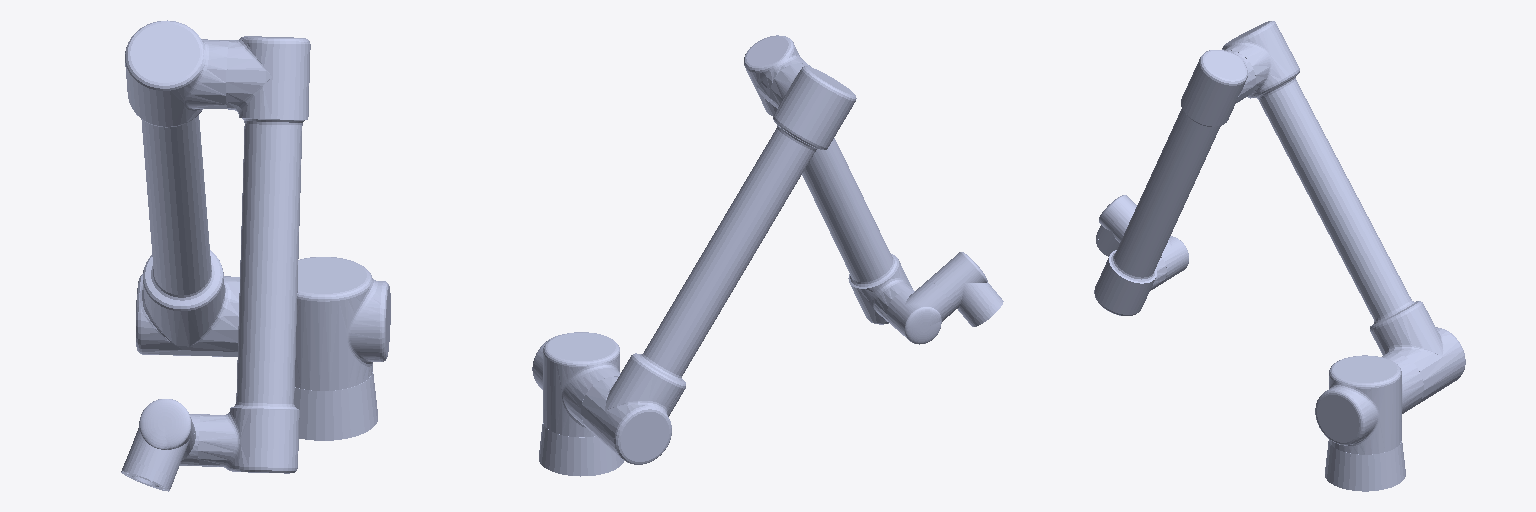
The robot description file, URDF, robot "robot":
<?xml version="1.0" encoding="utf-8"?>
<!-- This URDF was automatically created by SolidWorks to URDF Exporter! Originally created by [author] ([email redacted]) 
     Commit Version: 1.6.0-4-g7f85cfe  Build Version: 1.6.7995.38578
     For more information, please see http://wiki.ros.org/sw_urdf_exporter -->
<robot
  name="robot">
  <link
    name="Base">
    <inertial>
      <origin
        xyz="-0.00720869445927974 0.0598778067112673 -0.00909555708398103"
        rpy="0 0 0" />
      <mass
        value="2.17337480787328" />
      <inertia
        ixx="0.00588682864618151"
        ixy="-2.52029313306524E-35"
        ixz="-3.25439812748976E-35"
        iyy="0.00915848812879676"
        iyz="6.58977212252909E-20"
        izz="0.00588682864618151" />
    </inertial>
    <visual>
      <origin
        xyz="0 0 0"
        rpy="0 0 0" />
      <geometry>
        <mesh
          filename="package://robot/meshes/Base.STL" />
      </geometry>
      <material
        name="">
        <color
          rgba="0.792156862745098 0.819607843137255 0.933333333333333 1" />
      </material>
    </visual>
    <collision>
      <origin
        xyz="0 0 0"
        rpy="0 0 0" />
      <geometry>
        <mesh
          filename="package://robot/meshes/Base.STL" />
      </geometry>
    </collision>
  </link>
  <link
    name="Base_Link">
    <inertial>
      <origin
        xyz="-4.37610926571318E-07 0.0991451963514957 0.00793213930094456"
        rpy="0 0 0" />
      <mass
        value="5.63643739815513" />
      <inertia
        ixx="0.0359740700692069"
        ixy="1.41414673215612E-08"
        ixz="-1.35740235780724E-07"
        iyy="0.0316669062287972"
        iyz="-0.000313578444407717"
        izz="0.0234867978942921" />
    </inertial>
    <visual>
      <origin
        xyz="0 0 0"
        rpy="0 0 0" />
      <geometry>
        <mesh
          filename="package://robot/meshes/Base_Link.STL" />
      </geometry>
      <material
        name="">
        <color
          rgba="0.792156862745098 0.819607843137255 0.933333333333333 1" />
      </material>
    </visual>
    <collision>
      <origin
        xyz="0 0 0"
        rpy="0 0 0" />
      <geometry>
        <mesh
          filename="package://robot/meshes/Base_Link.STL" />
      </geometry>
    </collision>
  </link>
  <joint
    name="Base_Joint"
    type="revolute">
    <origin
      xyz="-0.0072087 0.0090956 0.098987"
      rpy="1.5708 0 -2.1682" />
    <parent
      link="Base" />
    <child
      link="Base_Link" />
    <axis
      xyz="0 1 0" />
    <limit
      lower="0"
      upper="0"
      effort="0"
      velocity="0" />
  </joint>
  <link
    name="Shoulder_Link">
    <inertial>
      <origin
        xyz="-2.42485247187174E-07 0.377510205205091 0.403179608390412"
        rpy="0 0 0" />
      <mass
        value="11.390964915207" />
      <inertia
        ixx="1.1739329091764"
        ixy="-8.60865179986778E-07"
        ixz="3.80916543585297E-07"
        iyy="0.0293567974622381"
        iyz="0.00557038935850324"
        izz="1.16702161436273" />
    </inertial>
    <visual>
      <origin
        xyz="0 0 0"
        rpy="0 0 0" />
      <geometry>
        <mesh
          filename="package://robot/meshes/Shoulder_Link.STL" />
      </geometry>
      <material
        name="">
        <color
          rgba="0.792156862745098 0.819607843137255 0.933333333333333 1" />
      </material>
    </visual>
    <collision>
      <origin
        xyz="0 0 0"
        rpy="0 0 0" />
      <geometry>
        <mesh
          filename="package://robot/meshes/Shoulder_Link.STL" />
      </geometry>
    </collision>
  </link>
  <joint
    name="Shoulder_Joint"
    type="revolute">
    <origin
      xyz="0 0.10616 -0.17191"
      rpy="0 0 -0.59604" />
    <parent
      link="Base_Link" />
    <child
      link="Shoulder_Link" />
    <axis
      xyz="0 0 1" />
    <limit
      lower="0"
      upper="0"
      effort="0"
      velocity="0" />
  </joint>
  <link
    name="Elbow_Link">
    <inertial>
      <origin
        xyz="-2.21918825205059E-07 0.25931644338234 0.302613154963713"
        rpy="0 0 0" />
      <mass
        value="7.4582948984426" />
      <inertia
        ixx="0.43871302799289"
        ixy="1.3682374694346E-07"
        ixz="9.96620512921931E-08"
        iyy="0.435767614490805"
        iyz="-0.000803244687696764"
        izz="0.0141463853829773" />
    </inertial>
    <visual>
      <origin
        xyz="0 0 0"
        rpy="0 0 0" />
      <geometry>
        <mesh
          filename="package://robot/meshes/Elbow_Link.STL" />
      </geometry>
      <material
        name="">
        <color
          rgba="0.792156862745098 0.819607843137255 0.933333333333333 1" />
      </material>
    </visual>
    <collision>
      <origin
        xyz="0 0 0"
        rpy="0 0 0" />
      <geometry>
        <mesh
          filename="package://robot/meshes/Elbow_Link.STL" />
      </geometry>
    </collision>
  </link>
  <joint
    name="Elbow_Joint"
    type="revolute">
    <origin
      xyz="0 0.81358 -0.030525"
      rpy="1.5708 0 1.0135" />
    <parent
      link="Shoulder_Link" />
    <child
      link="Elbow_Link" />
    <axis
      xyz="0 1 0" />
    <limit
      lower="0"
      upper="0"
      effort="0"
      velocity="0" />
  </joint>
  <link
    name="Wrist1_Link">
    <inertial>
      <origin
        xyz="-1.67102628123583E-08 0.129546133678737 0.0151390955773307"
        rpy="0 0 0" />
      <mass
        value="0.887360774259334" />
      <inertia
        ixx="0.00160602282113508"
        ixy="-7.55980201128017E-10"
        ixz="-2.17218405136371E-09"
        iyy="0.00137933118615523"
        iyz="-3.55198168682165E-05"
        izz="0.00116601449286818" />
    </inertial>
    <visual>
      <origin
        xyz="0 0 0"
        rpy="0 0 0" />
      <geometry>
        <mesh
          filename="package://robot/meshes/Wrist1_Link.STL" />
      </geometry>
      <material
        name="">
        <color
          rgba="0.792156862745098 0.819607843137255 0.933333333333333 1" />
      </material>
    </visual>
    <collision>
      <origin
        xyz="0 0 0"
        rpy="0 0 0" />
      <geometry>
        <mesh
          filename="package://robot/meshes/Wrist1_Link.STL" />
      </geometry>
    </collision>
  </link>
  <joint
    name="Wrist1_Joint"
    type="revolute">
    <origin
      xyz="0 0.28035 0.63091"
      rpy="-3.1416 1.3996 -3.1416" />
    <parent
      link="Elbow_Link" />
    <child
      link="Wrist1_Link" />
    <axis
      xyz="0 1 0" />
    <limit
      lower="0"
      upper="0"
      effort="0"
      velocity="0" />
  </joint>
  <link
    name="Wrist2_Link">
    <inertial>
      <origin
        xyz="1.51118002167383E-07 0.0686295948588763 0.015139121968226"
        rpy="0 0 0" />
      <mass
        value="0.887359407969487" />
      <inertia
        ixx="0.00160602213016229"
        ixy="-3.8101292455274E-10"
        ixz="-9.8162630485872E-10"
        iyy="0.00137933108441882"
        iyz="-3.55209003249813E-05"
        izz="0.00116601371834944" />
    </inertial>
    <visual>
      <origin
        xyz="0 0 0"
        rpy="0 0 0" />
      <geometry>
        <mesh
          filename="package://robot/meshes/Wrist2_Link.STL" />
      </geometry>
      <material
        name="">
        <color
          rgba="0.792156862745098 0.819607843137255 0.933333333333333 1" />
      </material>
    </visual>
    <collision>
      <origin
        xyz="0 0 0"
        rpy="0 0 0" />
      <geometry>
        <mesh
          filename="package://robot/meshes/Wrist2_Link.STL" />
      </geometry>
    </collision>
  </link>
  <joint
    name="Wrist2_Joint"
    type="revolute">
    <origin
      xyz="0 0.13209 0.058822"
      rpy="1.5708 0 -1.9069" />
    <parent
      link="Wrist1_Link" />
    <child
      link="Wrist2_Link" />
    <axis
      xyz="0 1 0" />
    <limit
      lower="0"
      upper="0"
      effort="0"
      velocity="0" />
  </joint>
  <link
    name="Flansch_Link">
    <inertial>
      <origin
        xyz="-5.28827474388649E-06 -2.26024118803458E-05 0.0526235093812261"
        rpy="0 0 0" />
      <mass
        value="0.132152328926578" />
      <inertia
        ixx="7.32172316049265E-05"
        ixy="2.5925556541559E-08"
        ixz="4.73918211936661E-09"
        iyy="7.31099485490114E-05"
        iyz="2.02555562092749E-08"
        izz="0.000130599256993017" />
    </inertial>
    <visual>
      <origin
        xyz="0 0 0"
        rpy="0 0 0" />
      <geometry>
        <mesh
          filename="package://robot/meshes/Flansch_Link.STL" />
      </geometry>
      <material
        name="">
        <color
          rgba="0.792156862745098 0.819607843137255 0.933333333333333 1" />
      </material>
    </visual>
    <collision>
      <origin
        xyz="0 0 0"
        rpy="0 0 0" />
      <geometry>
        <mesh
          filename="package://robot/meshes/Flansch_Link.STL" />
      </geometry>
    </collision>
  </link>
  <joint
    name="Flansch_Joint"
    type="revolute">
    <origin
      xyz="0 0.071178 0.033347"
      rpy="0 0 0.37885" />
    <parent
      link="Wrist2_Link" />
    <child
      link="Flansch_Link" />
    <axis
      xyz="0 0 1" />
    <limit
      lower="0"
      upper="0"
      effort="0"
      velocity="0" />
  </joint>
</robot>

--- Render facts (derived) ---
3 views of the same robot in one strip: view 1: azimuth 30°, elevation 25°; view 2: azimuth 150°, elevation 25°; view 3: azimuth 270°, elevation 25° (orthographic).
Robot: robot — 7 links, 6 joints (6 revolute); root link Base; default pose: all joints at 0.
Links seen in each view (by area): view 1: Elbow_Link, Shoulder_Link, Base_Link, Base, Wrist2_Link, Flansch_Link; view 2: Shoulder_Link, Elbow_Link, Base_Link, Base, Wrist1_Link, Wrist2_Link; view 3: Shoulder_Link, Elbow_Link, Base_Link, Base, Wrist2_Link, Wrist1_Link.
Link boxes in pixels (left/top/right/bottom): Elbow_Link: left=198, top=36, right=310, bottom=473; Shoulder_Link: left=125, top=20, right=239, bottom=356; Base_Link: left=295, top=257, right=390, bottom=390; Base: left=294, top=372, right=377, bottom=440; Wrist2_Link: left=126, top=399, right=194, bottom=478; Flansch_Link: left=121, top=461, right=173, bottom=491; Shoulder_Link: left=581, top=63, right=856, bottom=464; Elbow_Link: left=744, top=35, right=914, bottom=324; Base_Link: left=532, top=332, right=620, bottom=436; Base: left=539, top=423, right=623, bottom=476; Wrist1_Link: left=887, top=279, right=955, bottom=344; Wrist2_Link: left=930, top=252, right=997, bottom=319; Shoulder_Link: left=1222, top=21, right=1465, bottom=403; Elbow_Link: left=1094, top=50, right=1255, bottom=315; Base_Link: left=1315, top=353, right=1423, bottom=454; Base: left=1325, top=441, right=1405, bottom=491; Wrist2_Link: left=1098, top=195, right=1136, bottom=252; Wrist1_Link: left=1161, top=236, right=1188, bottom=283.
Bounding box of the posed robot: 0.8568 × 0.8657 × 0.9498 m (x, y, z).
Meshes: 7 distinct files referenced, 7 mesh visuals loaded (7 binary STL).